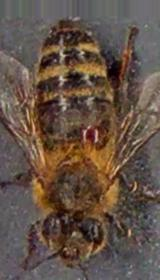varroa_mite: (74, 114, 112, 148)
